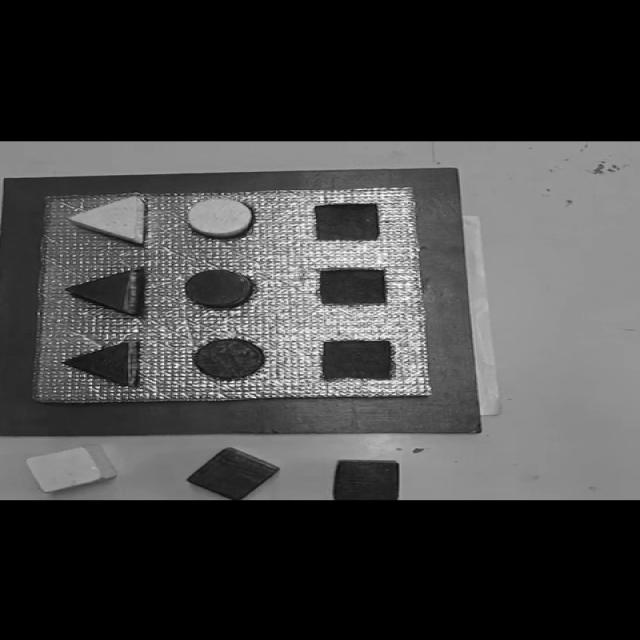bcircle: (193, 338, 265, 379)
btriangle: (63, 340, 140, 388)
mtcube: (318, 339, 395, 380), (313, 201, 383, 242), (317, 267, 390, 306)
rcircle: (184, 268, 251, 307)
rcube: (188, 447, 280, 500), (333, 460, 401, 501)
rtriangle: (66, 269, 136, 311)
wb: (27, 184, 439, 403)
ycircle: (187, 197, 254, 238)
ycube: (24, 443, 115, 493)
ytriangle: (68, 194, 148, 245)
